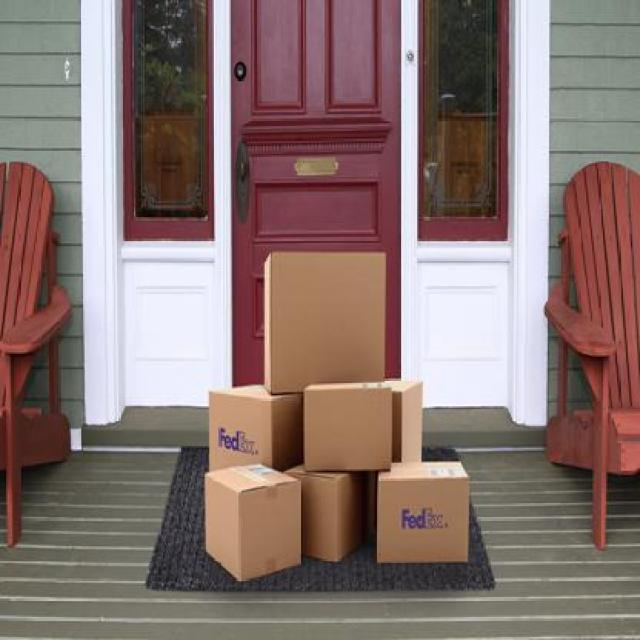box: (263, 245, 385, 390), (203, 459, 301, 578), (375, 455, 469, 567), (205, 376, 302, 482), (284, 458, 364, 566), (302, 376, 388, 470), (384, 376, 429, 475)
